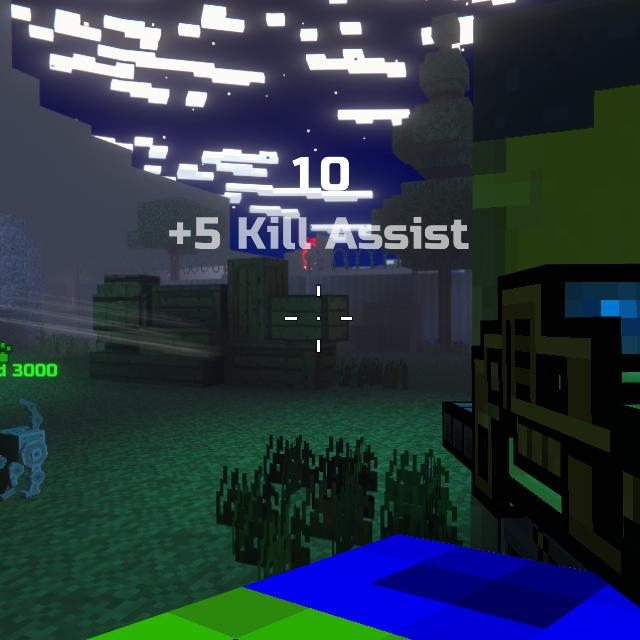Enemy: (305, 246, 316, 270)
